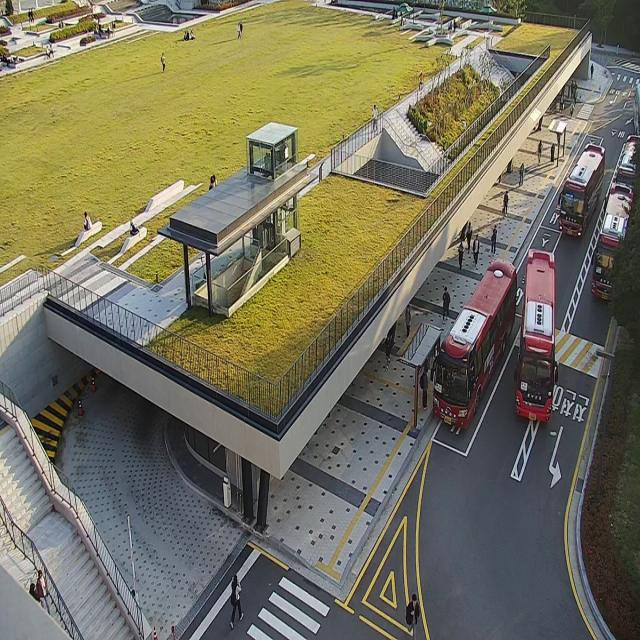queue: (416, 330, 440, 431)
